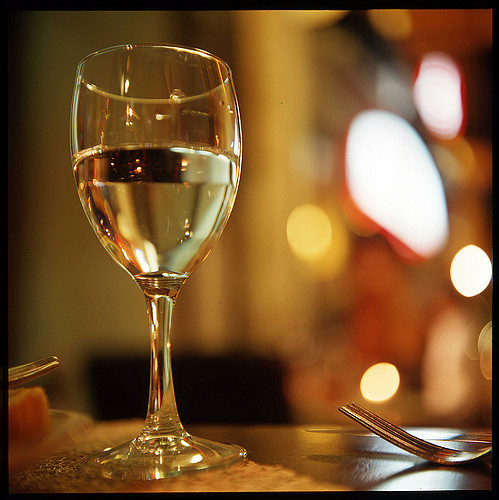glass of water: (76, 65, 236, 474)
